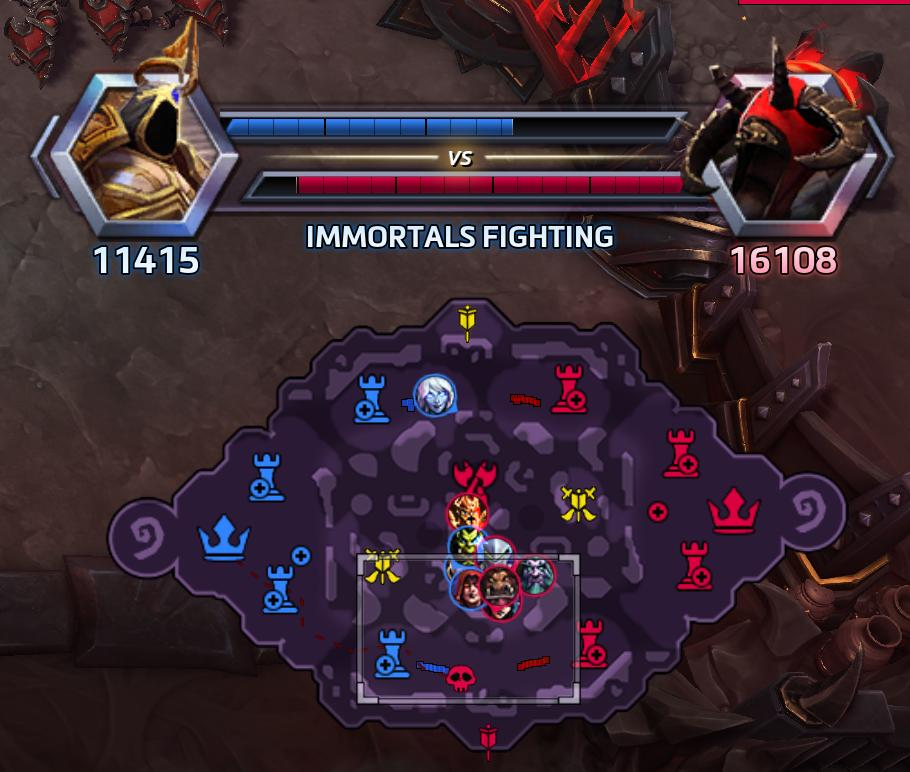blue nexus: (195, 512, 253, 561)
blue player: (412, 373, 457, 417), (447, 524, 486, 563), (474, 534, 515, 571)
blue tower: (260, 562, 300, 615), (372, 627, 412, 679), (246, 450, 286, 502), (352, 371, 391, 423)
red nexus: (701, 484, 763, 535)
red player: (478, 564, 519, 610), (514, 555, 555, 596), (445, 492, 486, 531), (449, 568, 486, 611), (484, 590, 522, 623)
red tower: (669, 539, 718, 595), (566, 619, 615, 670), (548, 360, 591, 416), (662, 426, 704, 479)
